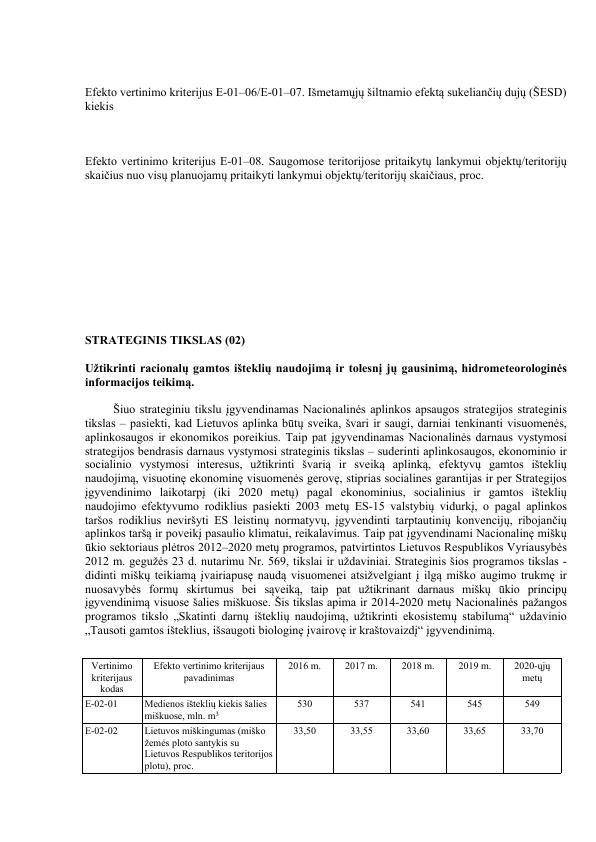table: (79, 656, 566, 775)
text: (82, 402, 571, 639), (83, 81, 568, 120), (80, 152, 568, 188), (85, 359, 570, 391), (78, 332, 251, 349)
